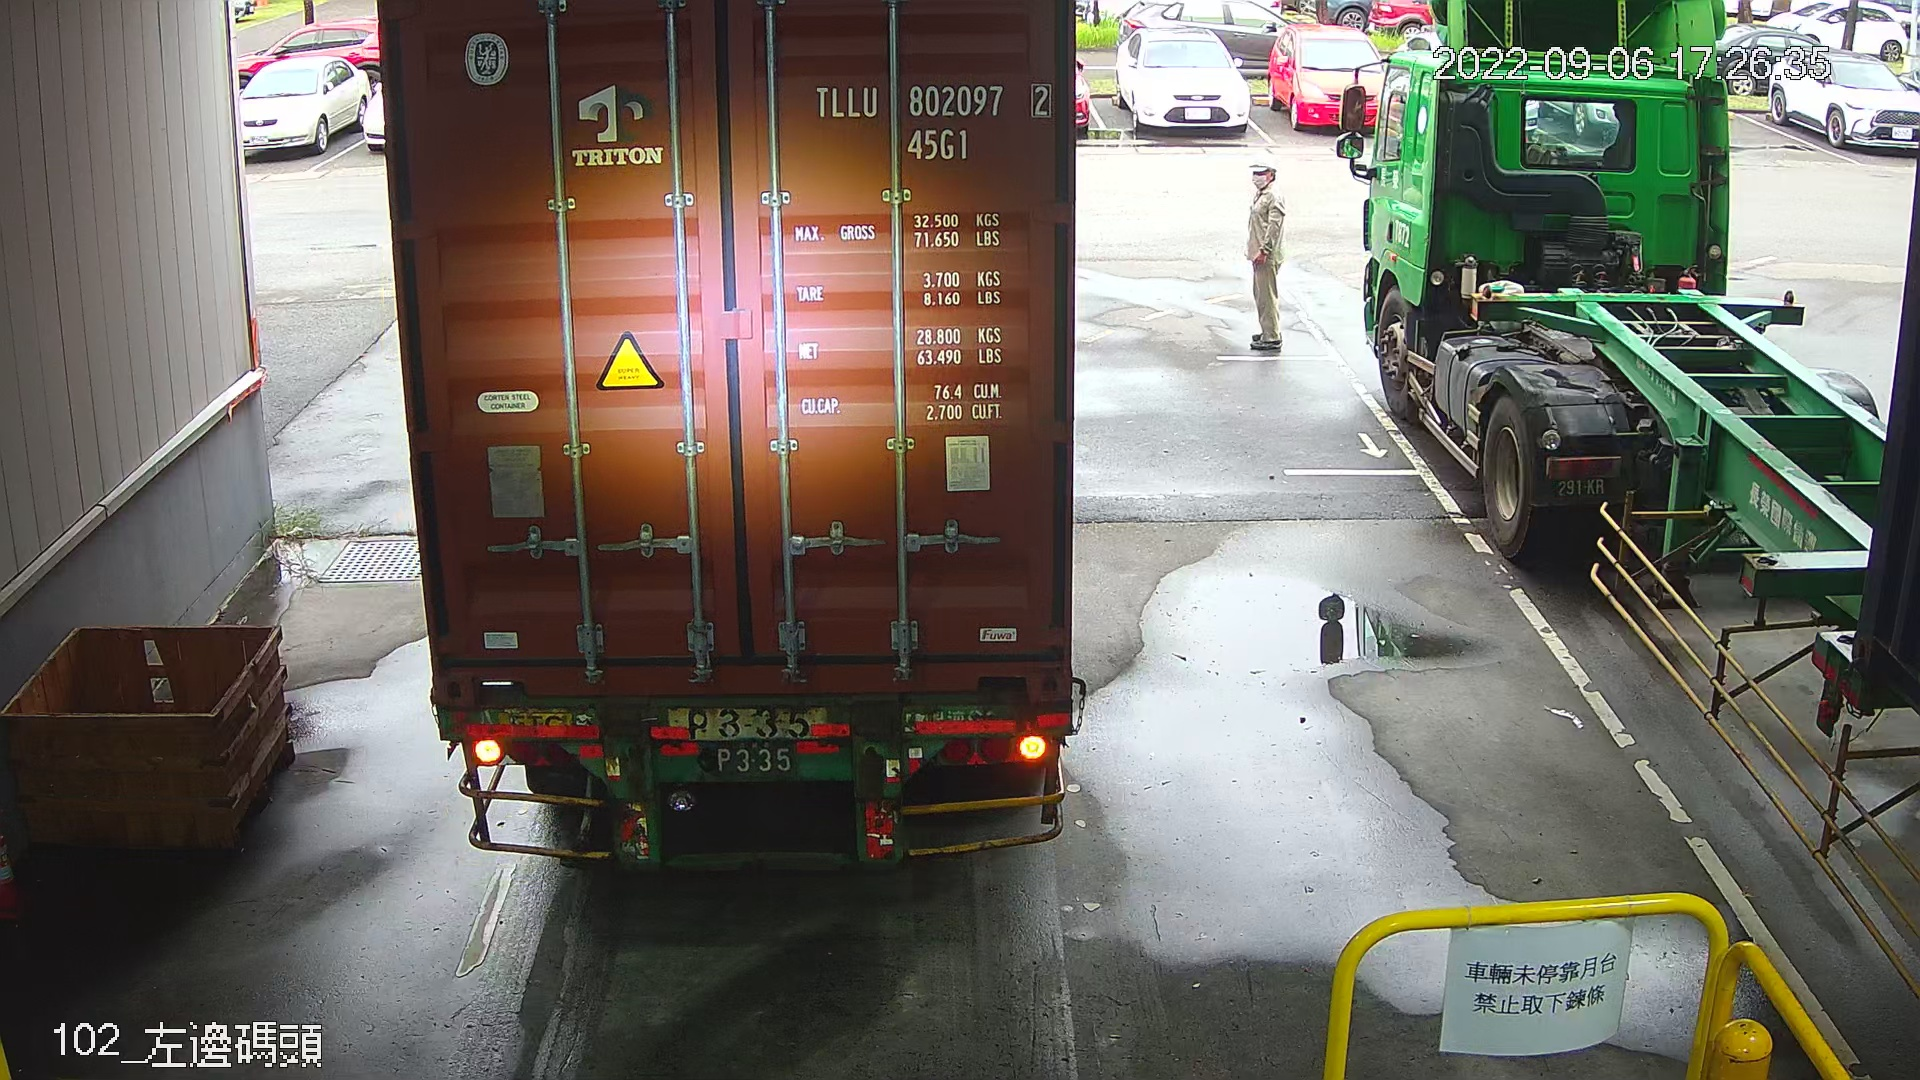container: (807, 70, 1059, 166)
